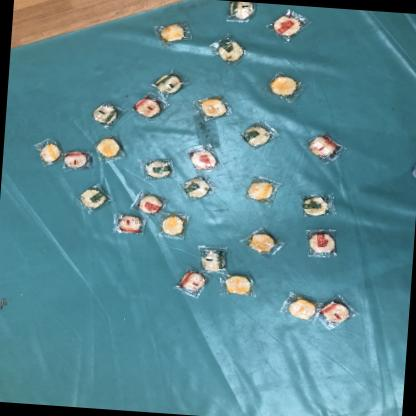green_setoshio: (237, 116, 280, 152), (75, 178, 115, 214), (206, 34, 248, 67), (298, 190, 342, 221), (152, 66, 188, 98), (178, 174, 218, 202), (197, 244, 230, 275), (89, 100, 123, 127), (224, 1, 262, 24), (143, 155, 174, 182)
red_setoshio: (264, 6, 312, 42), (302, 128, 347, 164), (317, 294, 359, 330), (184, 143, 223, 174), (173, 269, 209, 300), (131, 188, 170, 216), (302, 228, 338, 258), (129, 93, 166, 120), (108, 212, 144, 238), (63, 146, 95, 173)
yellow_setoshio: (258, 67, 310, 103), (192, 92, 236, 126), (279, 291, 320, 325), (241, 226, 283, 258), (153, 16, 195, 46), (220, 270, 262, 300), (241, 174, 281, 204), (154, 212, 191, 244), (92, 134, 127, 163), (31, 136, 64, 166)
